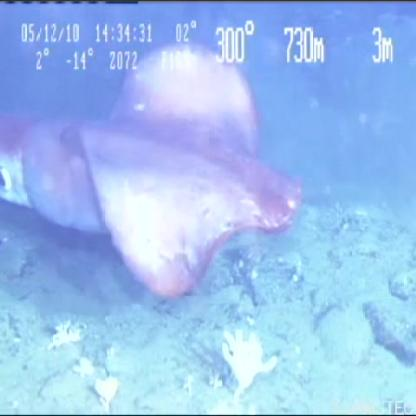Bio: (1, 37, 306, 304)
